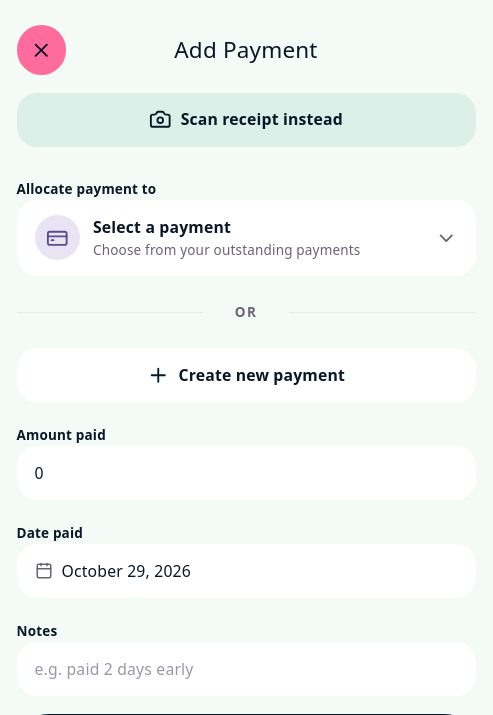
PaymentForm (ObligationForm) Component › should display validation errors when required fields are missing
The width and height of the screenshot is (493, 715).
Expected: the button with aria-label "Allocate payment to" is enabled, [16,200,476,276]
Clear the field labelled "Amount paid": (246, 473) [16,446,476,500]
(page scrolled)
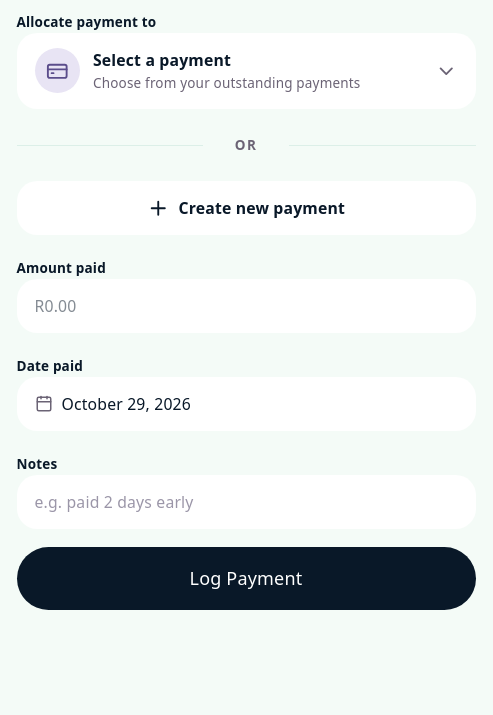
Click the button "Log Payment": (246, 579) [16,547,476,610]
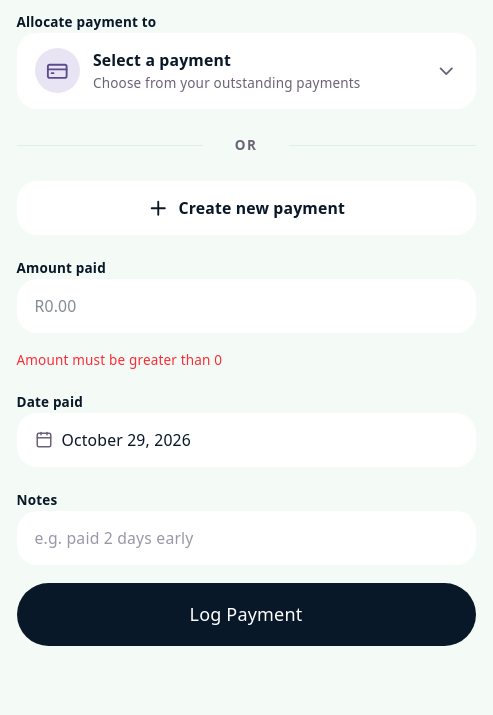
Now the text "Amount must be greater than 0" is shown, box [16,351,222,369]
